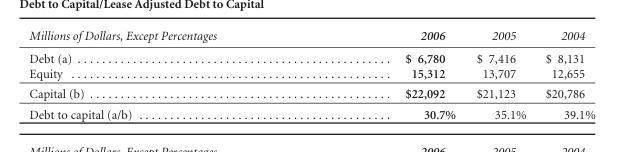table: (28, 28, 594, 120)
table column: (28, 28, 310, 120), (310, 28, 465, 120), (465, 28, 535, 120), (535, 28, 594, 120)
table column header: (28, 28, 594, 47)
table row: (28, 83, 594, 103), (28, 28, 594, 47), (28, 47, 594, 65), (28, 65, 594, 83), (28, 103, 594, 120)
